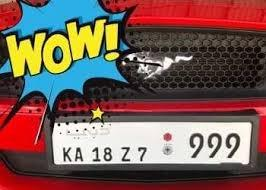Liscence Plate: (54, 117, 248, 162)
